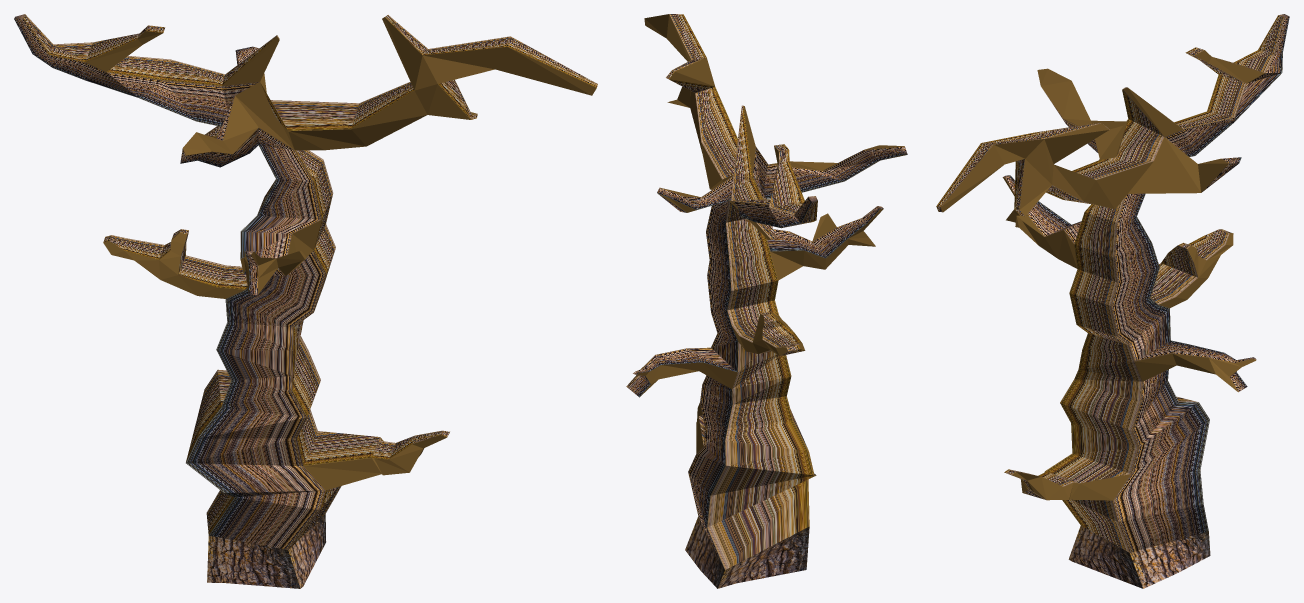
Rendered from Tree Textured.fbx.
3 renders of one model, left to right at view 1: azimuth 30°, elevation 25°; view 2: azimuth 150°, elevation 25°; view 3: azimuth 270°, elevation 25°, orthographic. The views are drawn at different scales.
Parts seen in each view (by area): view 1: Box001; view 2: Box001; view 3: Box001.
Part boxes in pixels (x1,y1,x2,y2): Box001: (14, 14, 597, 588); Box001: (626, 14, 907, 588); Box001: (936, 14, 1289, 588).
Size of the model in its own units: 199 by 262 by 171.
Materials: 1 (1 with a texture image).
